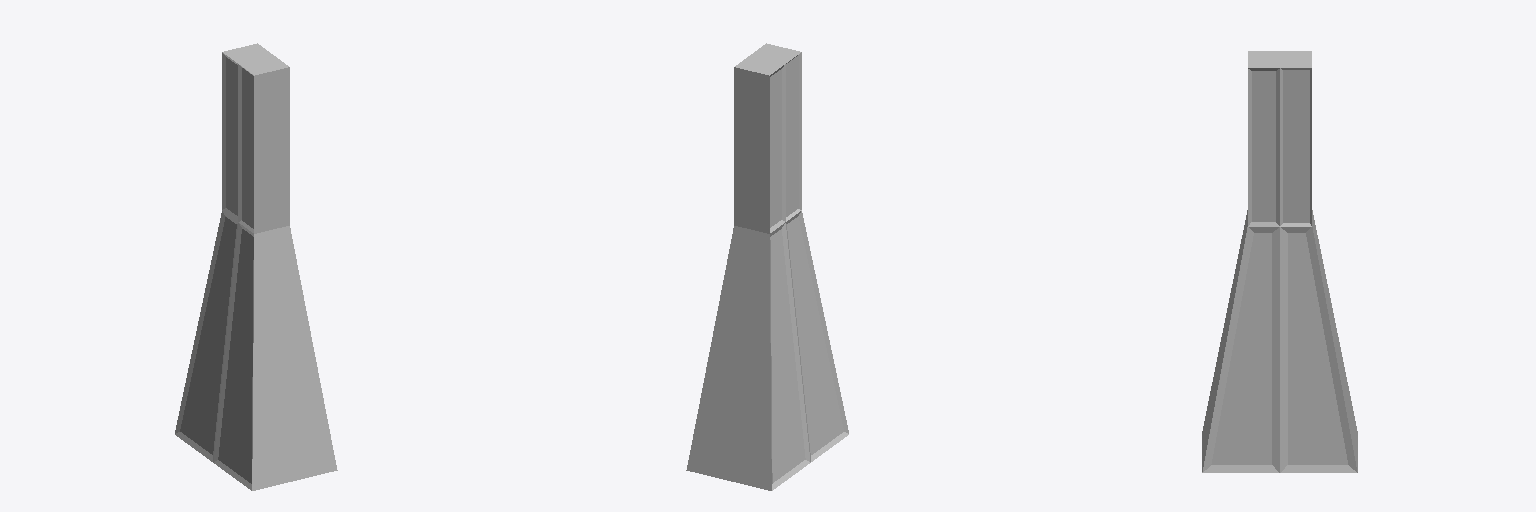
Rendered from Edificio2.obj.
The picture shows the model from 3 angles: view 1: azimuth 30°, elevation 25°; view 2: azimuth 150°, elevation 25°; view 3: azimuth 270°, elevation 25°; orthographic projection.
Parts seen in each view (by area): view 1: Cube.002; view 2: Cube.002; view 3: Cube.002.
Part boxes in pixels (left/top/right/bottom): Cube.002: left=175, top=43, right=337, bottom=490; Cube.002: left=686, top=43, right=848, bottom=490; Cube.002: left=1202, top=51, right=1357, bottom=472.
Size of the model in its own units: 0.4601 by 2.03 by 0.7263.